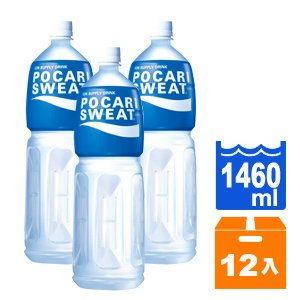POCARI SWEAT: (75, 46, 145, 289), (20, 21, 90, 264)
